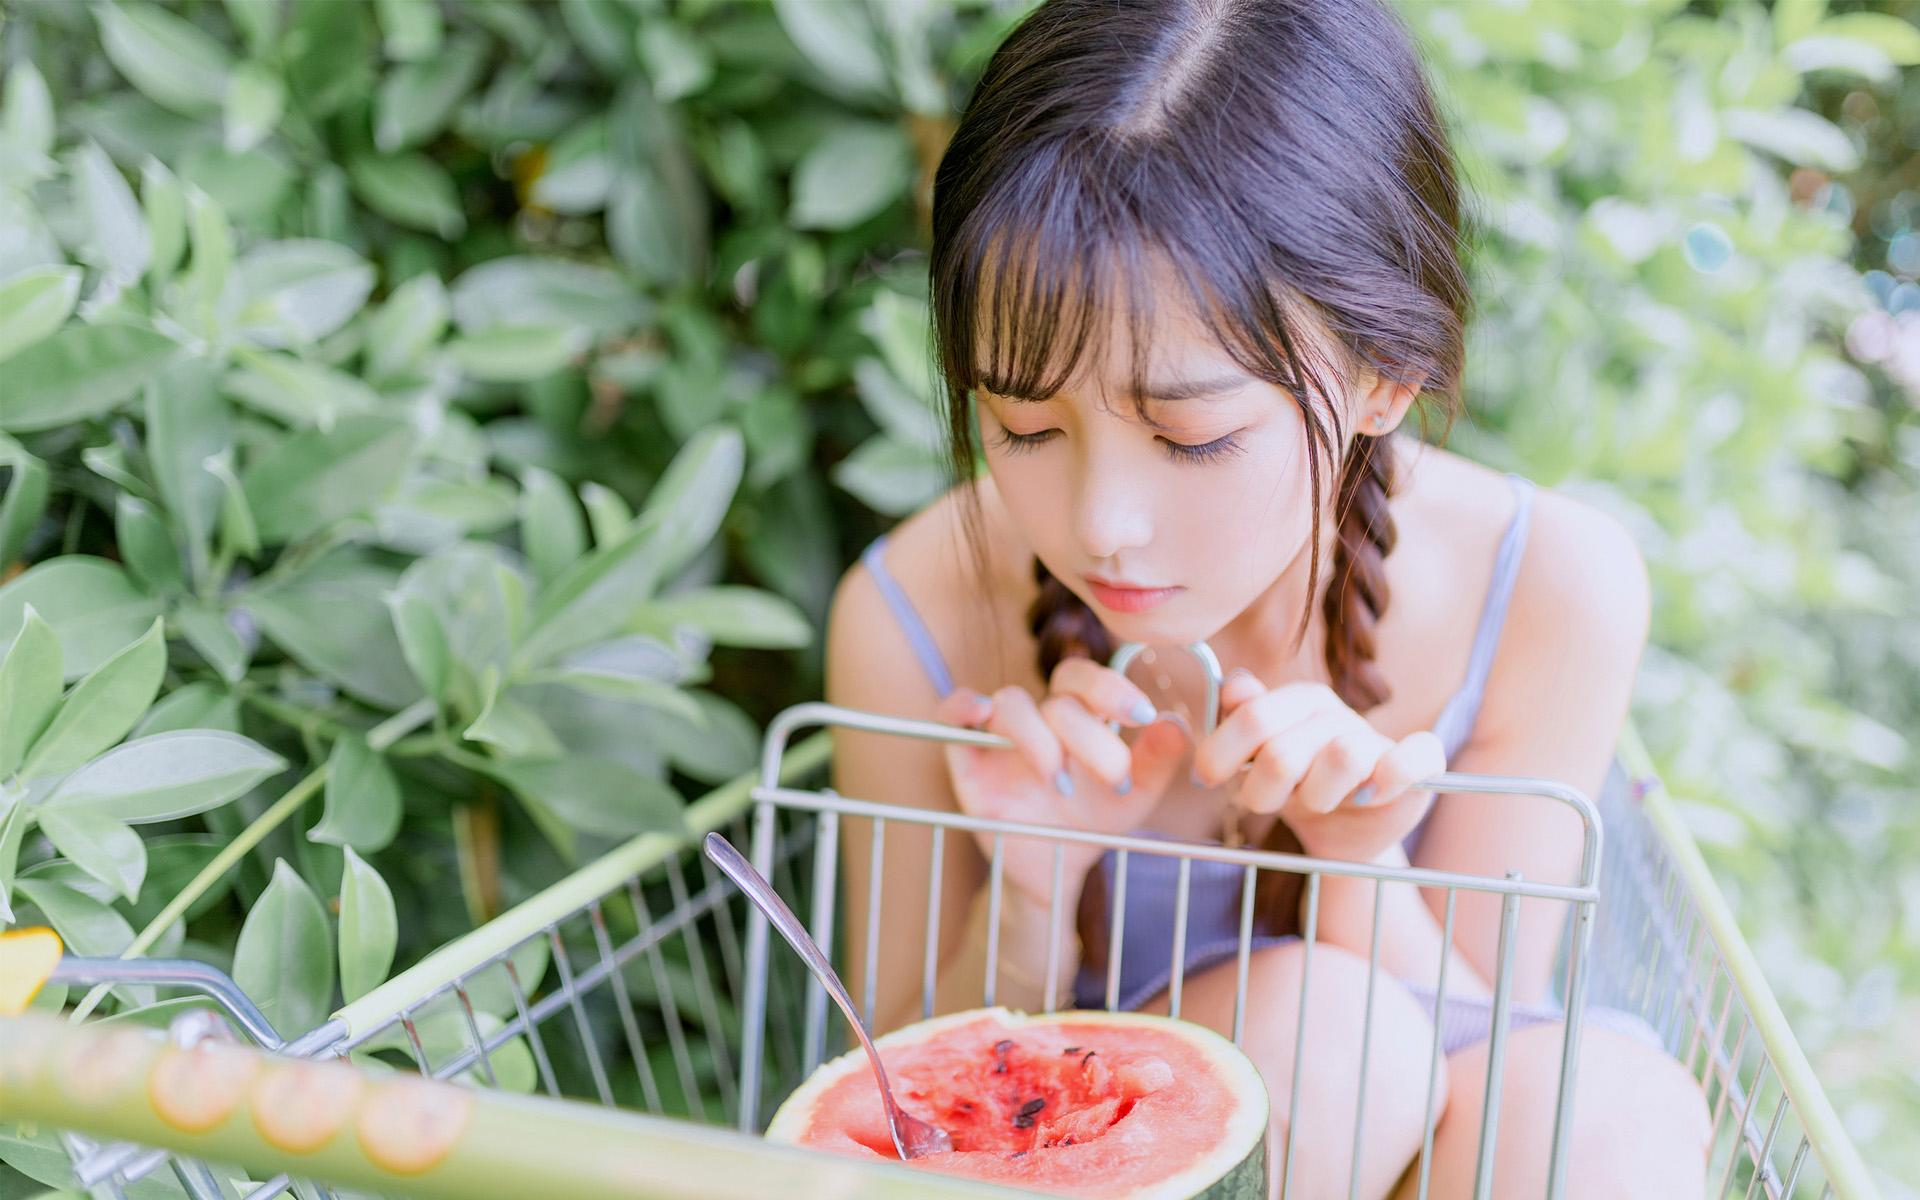person: (722, 26, 1520, 1200)
